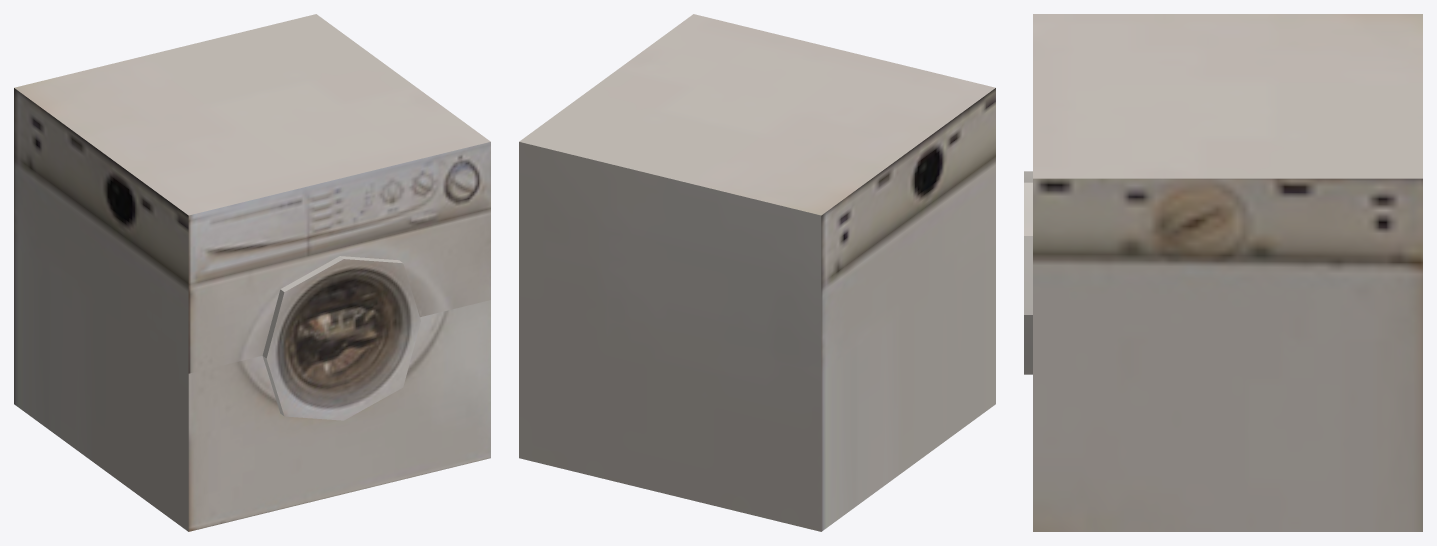
Rendered from Washer.fbx.
The picture shows the model from 3 angles, left to right: view 1: azimuth 30°, elevation 25°; view 2: azimuth 150°, elevation 25°; view 3: azimuth 270°, elevation 25°; orthographic projection. The views are drawn at different scales.
Visible parts, largest first — view 1: Cube; view 2: Cube; view 3: Cube.
Part boxes in pixels (box(x1,y1,x2,y2)): Cube: box(14, 14, 490, 531); Cube: box(519, 14, 995, 531); Cube: box(1024, 14, 1422, 531).
Bounding box in the file's own units: 200 × 200 × 205.
1 material, 1 textured.
